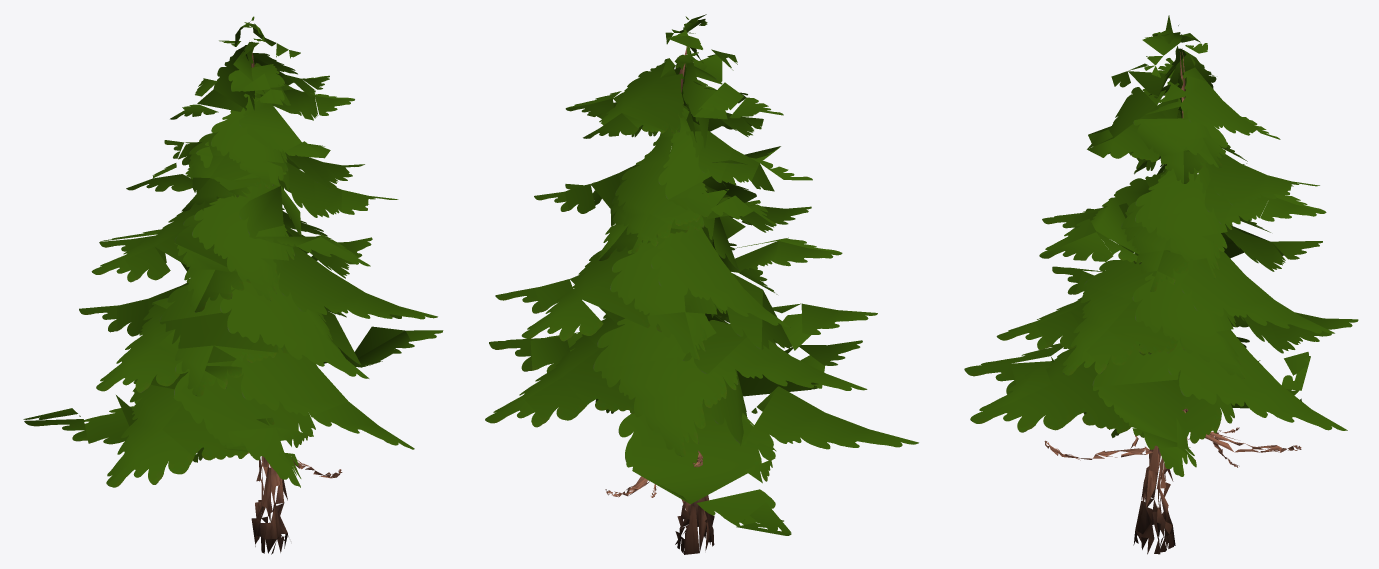
File: pinus-1.glb
3 renders of one model, left to right at view 1: azimuth 30°, elevation 25°; view 2: azimuth 150°, elevation 25°; view 3: azimuth 270°, elevation 25°, orthographic. The views are drawn at different scales.
Visible parts, largest first — view 1: Pine_2; view 2: Pine_2; view 3: Pine_2.
Boxes of the visible parts, x1,y1,x2,y2 form: Pine_2: [23, 16, 443, 554]; Pine_2: [485, 14, 918, 554]; Pine_2: [964, 15, 1358, 554].
Size of the model in its own units: 9.32 by 12.03 by 8.49.
Materials: 2 (2 with a texture image).
